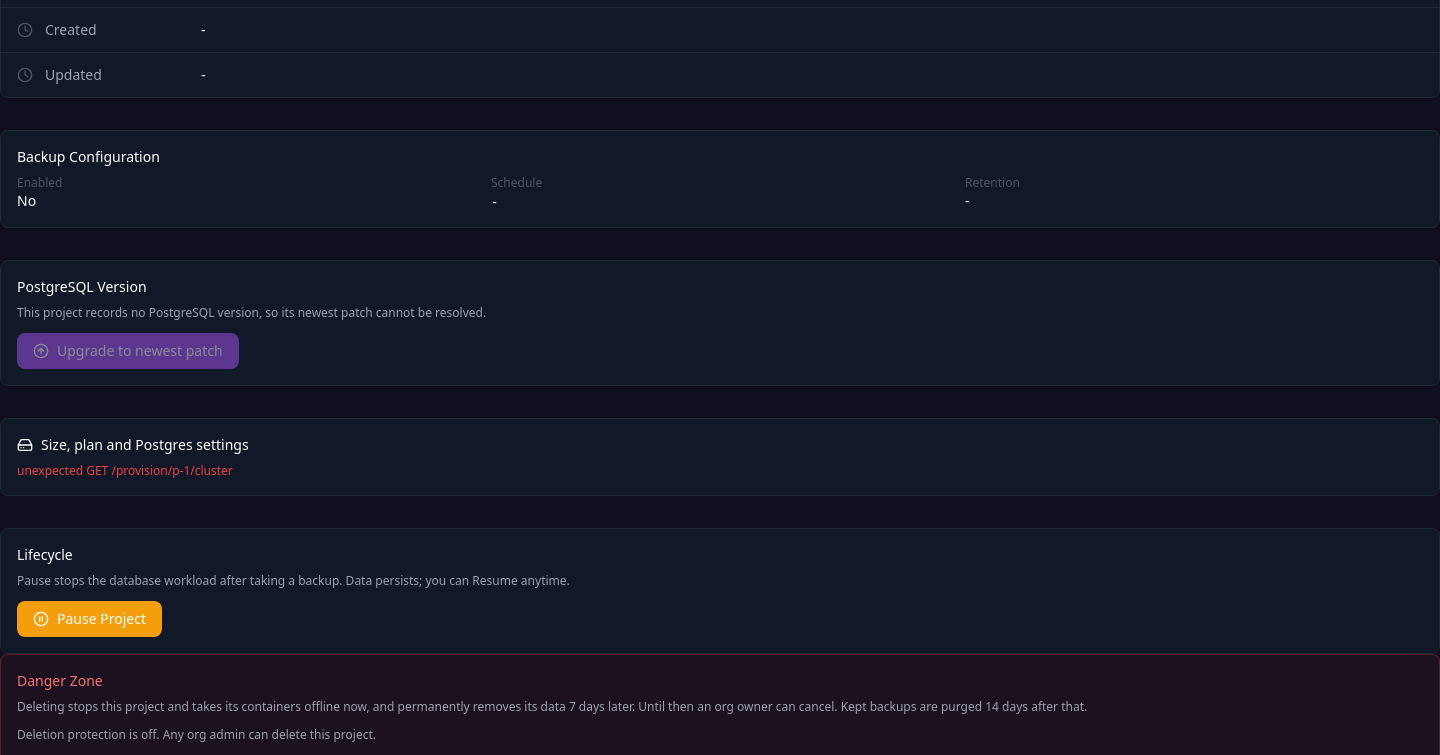
Test: SettingsPage — operations followed on the project › a pause that did not complete names why
(page scrolled)
Click the button with test id "pause-project-btn" at coordinates (90, 619), box left=17, top=601, right=162, bottom=637
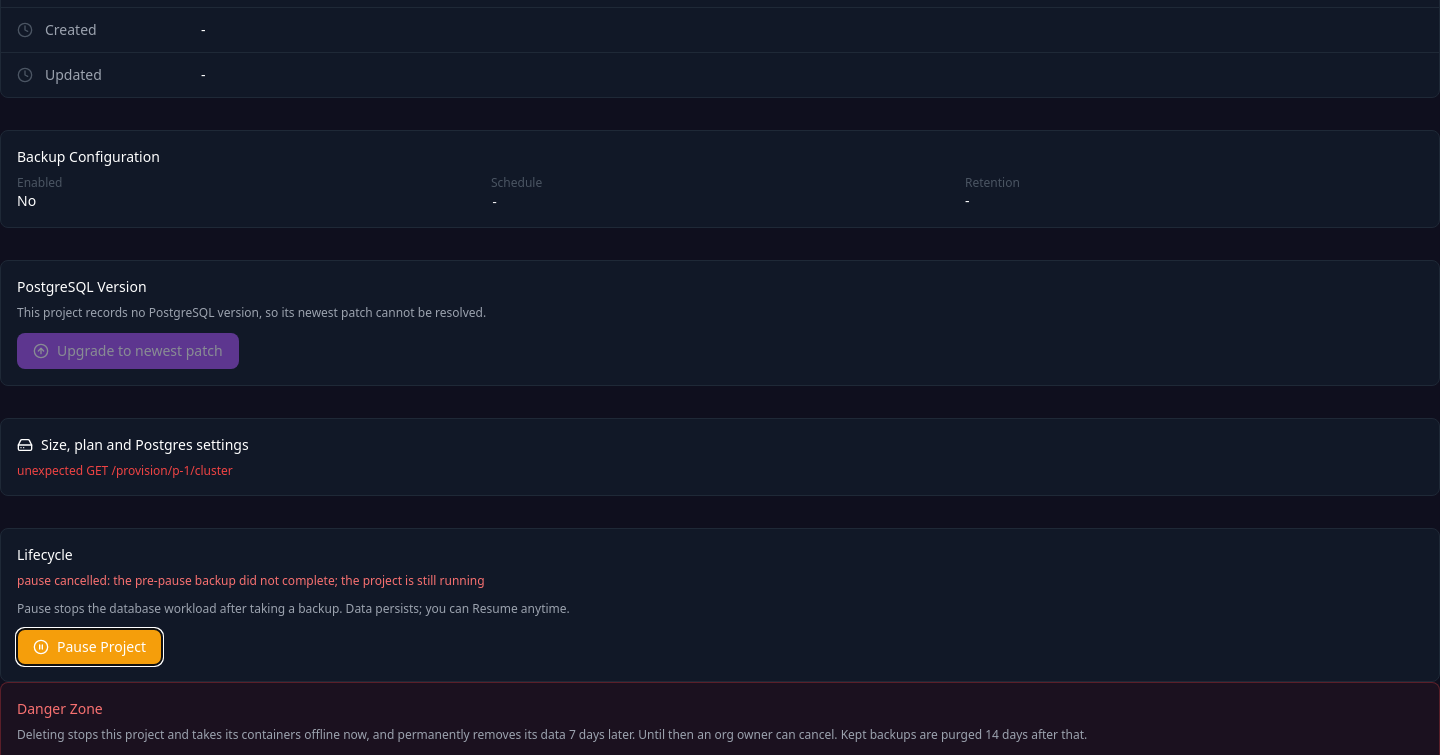
Check: the message with test id "lifecycle-error" shows "pre-pause backup did not complete", box left=17, top=572, right=485, bottom=589
